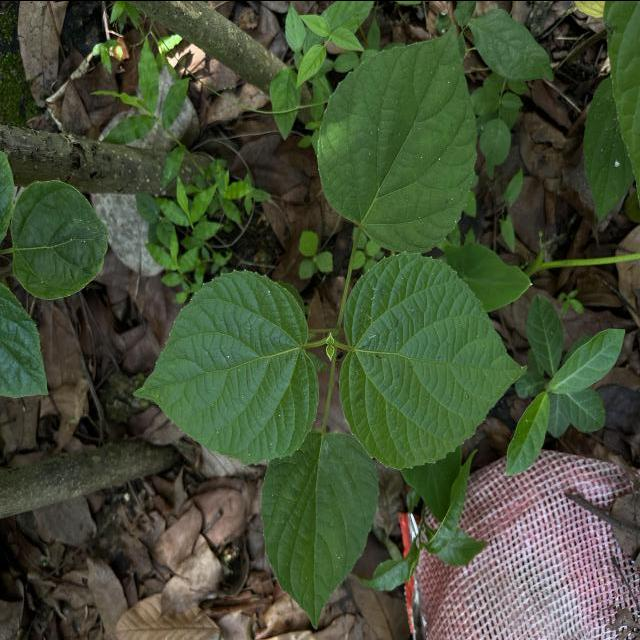Clerodendrum infortunatum: (337, 248, 529, 472), (131, 264, 321, 468), (315, 22, 479, 255), (259, 428, 381, 630)
